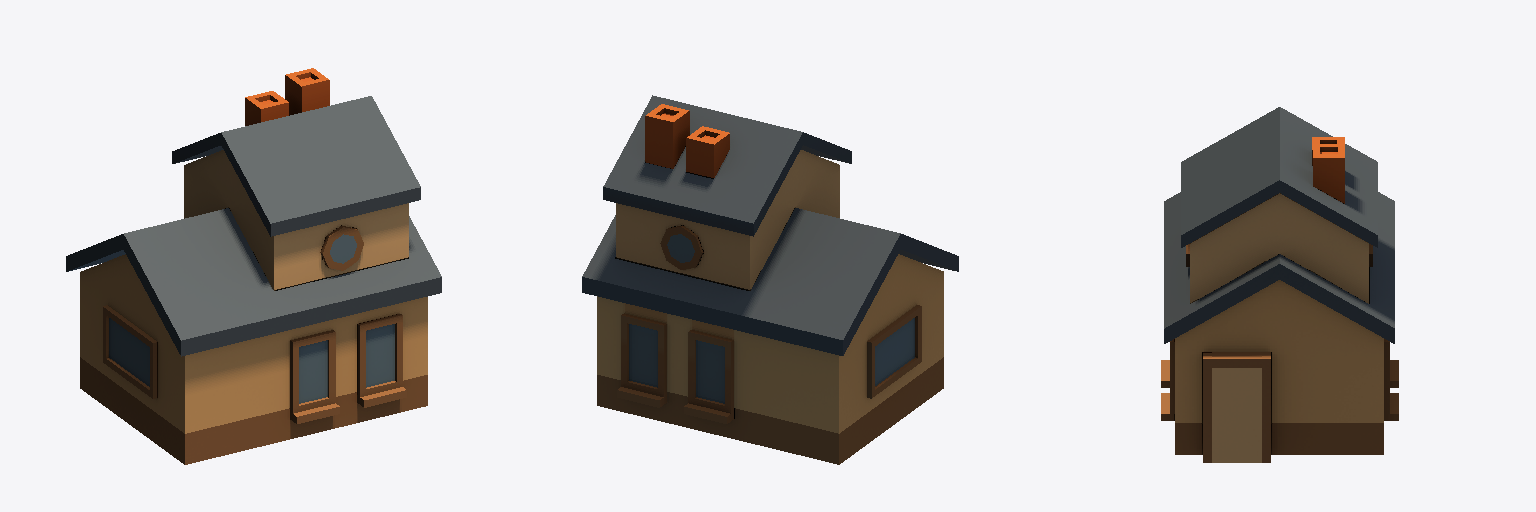
3 views of the same model, side by side, from view 1: azimuth 30°, elevation 25°; view 2: azimuth 150°, elevation 25°; view 3: azimuth 270°, elevation 25° (orthographic).
Visible parts, largest first — view 1: house; view 2: house; view 3: house.
Part boxes in pixels (left/top/right/bottom): house: left=66, top=68, right=441, bottom=464; house: left=582, top=95, right=958, bottom=464; house: left=1161, top=107, right=1398, bottom=462.
Bounding box in the file's own units: 1.43 × 1.46 × 1.11.
Materials: 1 (1 with a texture image).